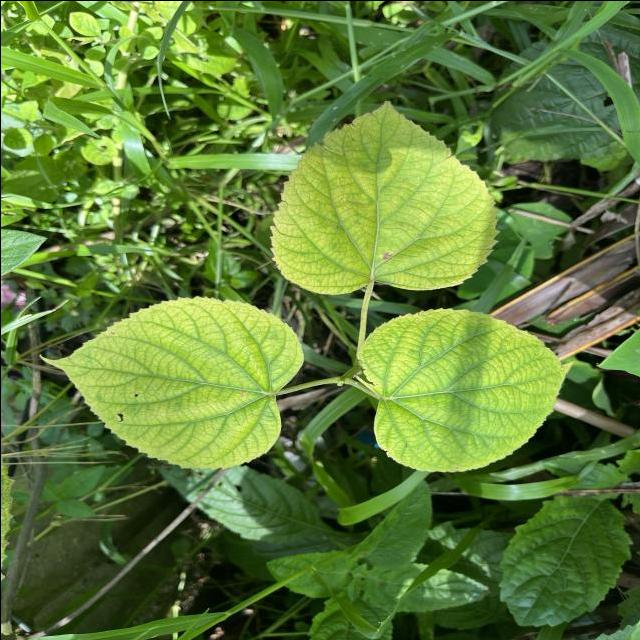Clerodendrum infortunatum: (36, 294, 302, 471), (267, 98, 502, 296), (357, 305, 576, 474)
